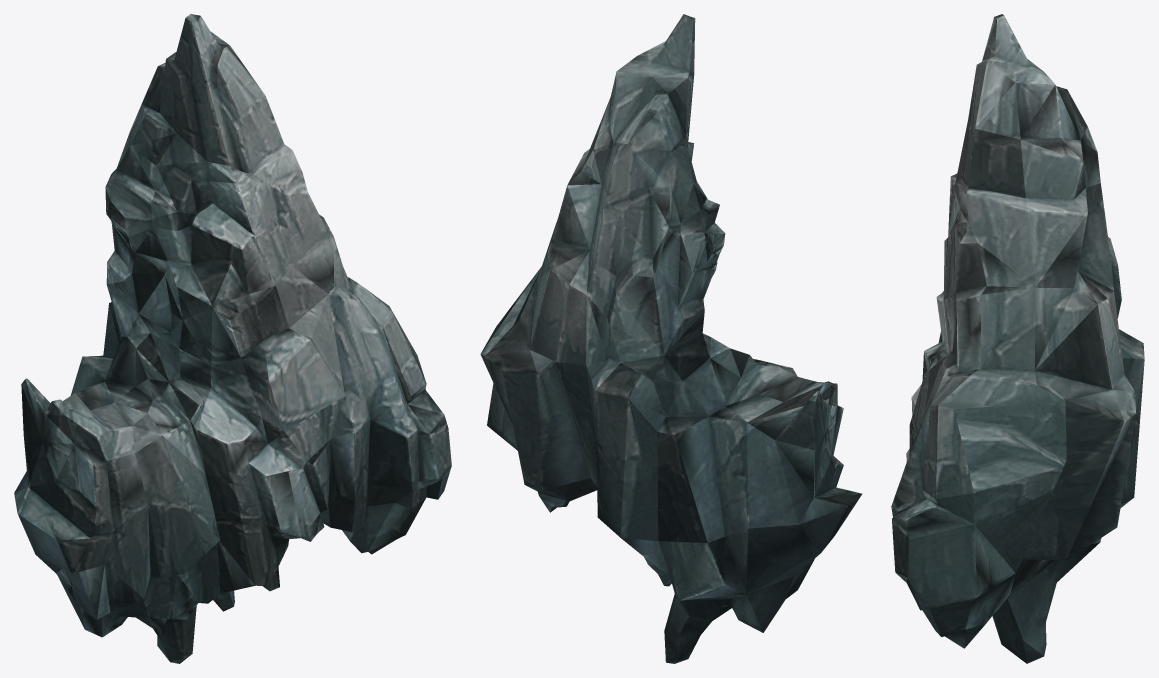
The model's file is W3_HD_GongHuiBoss_dashi02_07.fbx.
The picture shows the model from 3 angles, left to right: view 1: azimuth 30°, elevation 25°; view 2: azimuth 150°, elevation 25°; view 3: azimuth 270°, elevation 25°; orthographic projection. The views are drawn at different scales.
Visible parts, largest first — view 1: W3_HD_GongHuiBoss_dashi02_07; view 2: W3_HD_GongHuiBoss_dashi02_07; view 3: W3_HD_GongHuiBoss_dashi02_07.
Boxes of the visible parts, <box> form: W3_HD_GongHuiBoss_dashi02_07: <box>14,14,451,663</box>; W3_HD_GongHuiBoss_dashi02_07: <box>480,14,862,663</box>; W3_HD_GongHuiBoss_dashi02_07: <box>891,14,1144,663</box>.
Size of the model in its own units: 79.66 by 129 by 45.61.
1 material, 1 textured.
